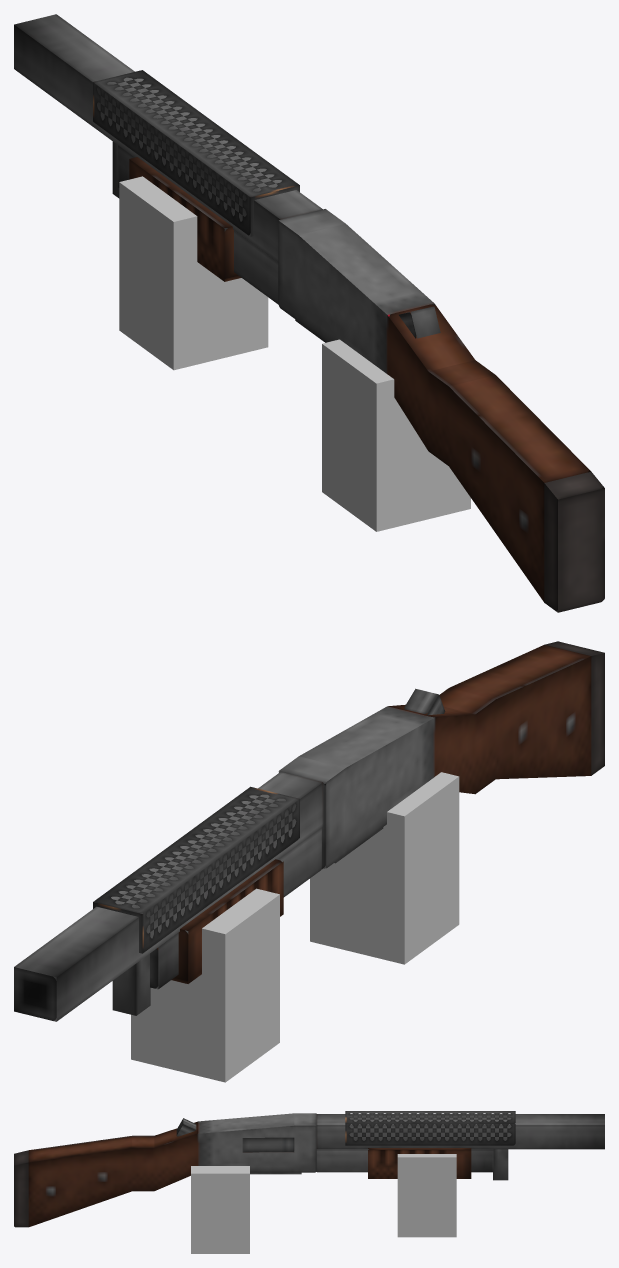
Rendered from shotgun.obj.
3 views of the same model, one above another, from view 1: azimuth 30°, elevation 25°; view 2: azimuth 150°, elevation 25°; view 3: azimuth 270°, elevation 25° (orthographic). The views are drawn at different scales.
Visible parts, largest first — view 1: shotgunmain, hand_off, hand_main, actionejection; view 2: shotgunmain, hand_main, hand_off, actionejection; view 3: shotgunmain, hand_main, hand_off, actionejection.
Part boxes in pixels (x1=…): shotgunmain: x1=14, y1=14, x2=604, y2=612; hand_off: x1=119, y1=176, x2=268, y2=370; hand_main: x1=322, y1=339, x2=470, y2=531; actionejection: x1=129, y1=157, x2=241, y2=281; shotgunmain: x1=14, y1=641, x2=604, y2=1021; hand_main: x1=310, y1=772, x2=459, y2=964; hand_off: x1=131, y1=888, x2=279, y2=1082; actionejection: x1=157, y1=782, x2=326, y2=983; shotgunmain: x1=14, y1=1111, x2=604, y2=1227; hand_main: x1=191, y1=1166, x2=249, y2=1253; hand_off: x1=397, y1=1154, x2=456, y2=1237; actionejection: x1=242, y1=1137, x2=471, y2=1178.
Bounding box in the file's own units: 0.5625 × 1.14 × 5.01.
